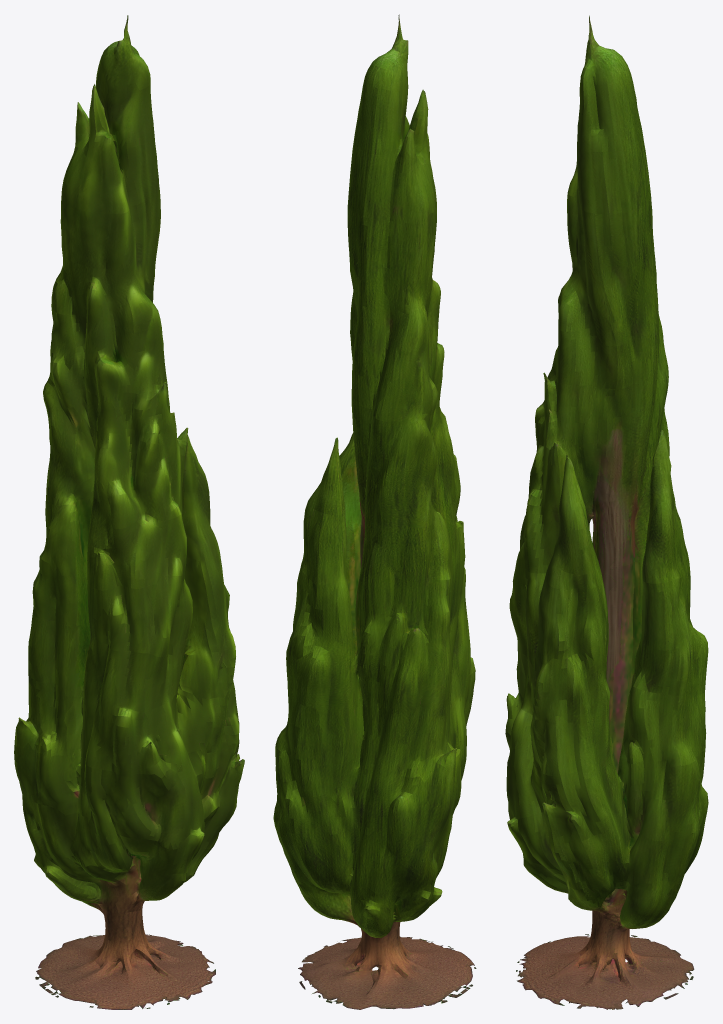
File: raw_meshy_model.glb
3 renders of one model, left to right at view 1: azimuth 30°, elevation 25°; view 2: azimuth 150°, elevation 25°; view 3: azimuth 270°, elevation 25°, orthographic.
Size of the model in its own units: 0.3816 by 1.89 by 0.3631.
Materials: 1 (1 with a texture image).
